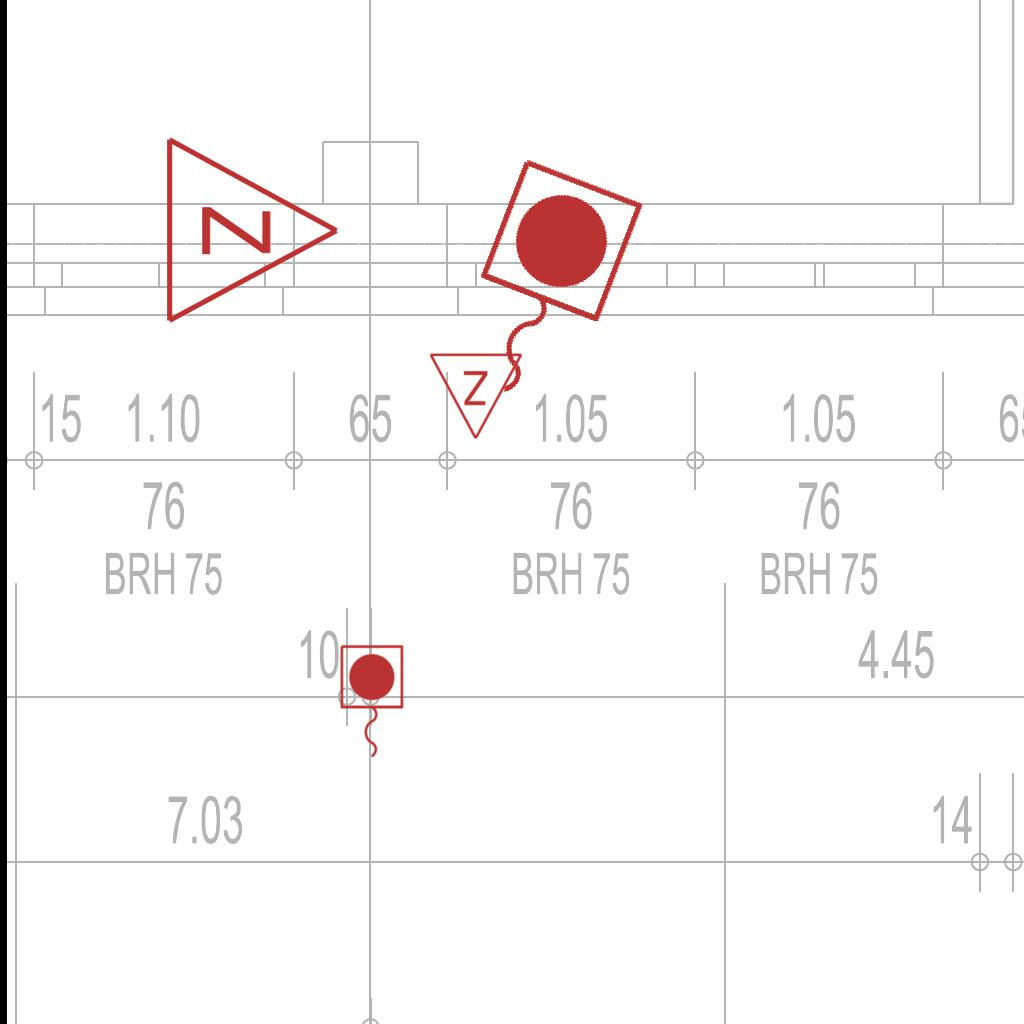Zimmersignalleuchte: (152, 130, 352, 326), (428, 346, 526, 446)
Zugtaster: (431, 147, 653, 427), (335, 641, 407, 763)
